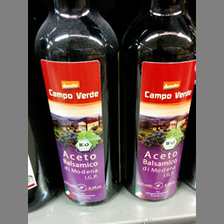vinegar: (31, 1, 124, 207), (127, 1, 198, 204)
